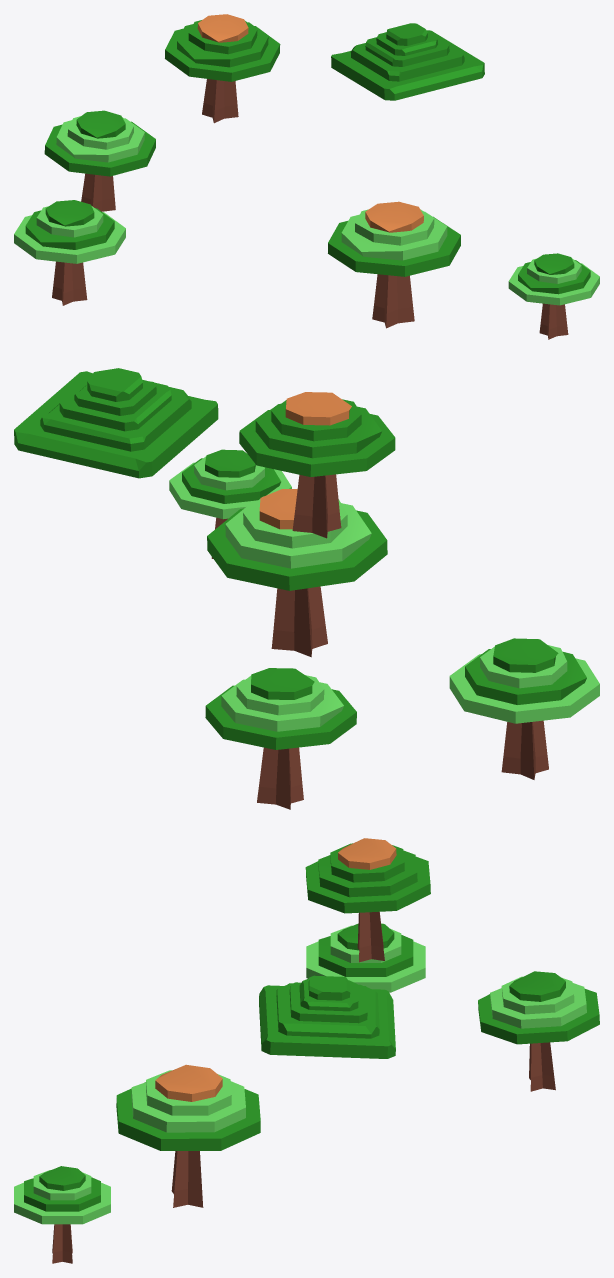
Rendered from Arbustos.fbx.
3 views of the same model, one above another, from view 1: azimuth 30°, elevation 25°; view 2: azimuth 150°, elevation 25°; view 3: azimuth 270°, elevation 25° (orthographic). The views are drawn at different scales.
Visible parts, largest first — view 1: Cube.023, Plane, Cube.018, Cube.004, Cube.008, Cube.001; view 2: Cube.023, Plane, Cube.018, Cube.004, Cube.008, Cube.001; view 3: Cube.023, Plane, Cube.018, Cube.008, Cube.001, Cube.004.
Part boxes in pixels (box(x1,y1,x2,y2)): Cube.023: box(328, 201, 460, 328); Plane: box(331, 23, 484, 100); Cube.018: box(165, 14, 280, 123); Cube.004: box(14, 200, 125, 305); Cube.008: box(44, 110, 155, 211); Cube.001: box(508, 253, 599, 339); Cube.023: box(207, 489, 387, 657); Plane: box(14, 368, 218, 478); Cube.018: box(239, 392, 395, 538); Cube.004: box(449, 638, 599, 779); Cube.008: box(205, 668, 356, 809); Cube.001: box(169, 449, 291, 558); Cube.023: box(116, 1064, 260, 1207); Plane: box(259, 975, 395, 1058); Cube.018: box(305, 838, 430, 962); Cube.008: box(478, 971, 599, 1091); Cube.001: box(14, 1166, 110, 1263); Cube.004: box(306, 923, 425, 992).
Bounding box in the file's own units: 4795 × 2760 × 4902.
